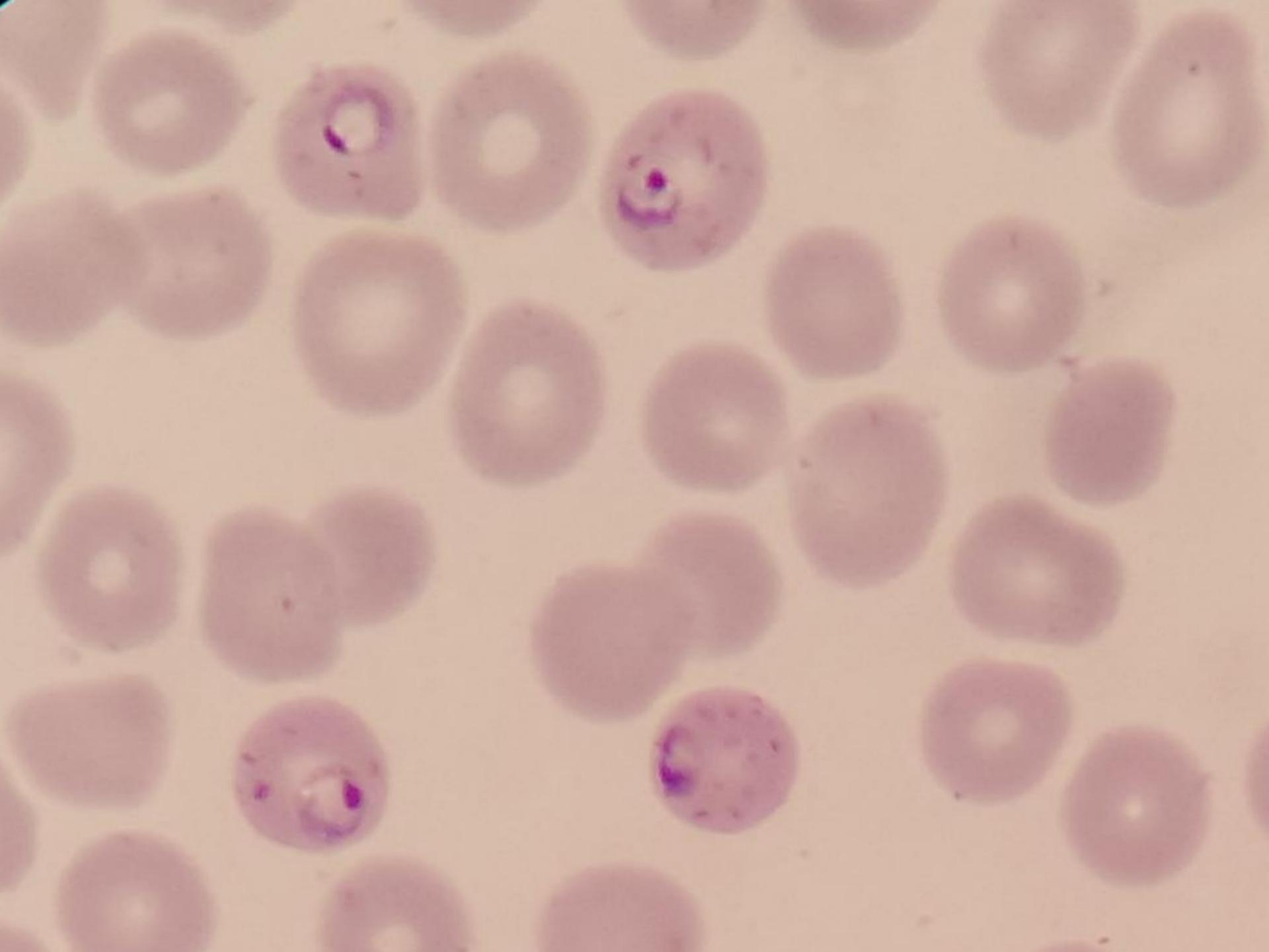Infected: (603, 90, 762, 270), (233, 696, 391, 853), (276, 63, 422, 225), (656, 684, 796, 833)
Uninfected: (296, 232, 469, 418), (425, 53, 596, 230), (791, 403, 948, 586), (1119, 13, 1264, 211), (453, 303, 602, 488), (41, 479, 187, 652), (948, 496, 1123, 640), (535, 563, 693, 722), (201, 511, 352, 677), (0, 190, 153, 352), (121, 182, 277, 340), (1069, 729, 1211, 894), (84, 33, 245, 172), (641, 341, 792, 489), (53, 828, 226, 952), (925, 661, 1073, 804), (940, 218, 1078, 370), (990, 5, 1143, 138), (768, 233, 906, 377), (18, 676, 173, 804), (646, 512, 782, 656), (302, 488, 440, 628), (1048, 362, 1178, 501), (539, 862, 708, 952), (322, 854, 477, 952)
